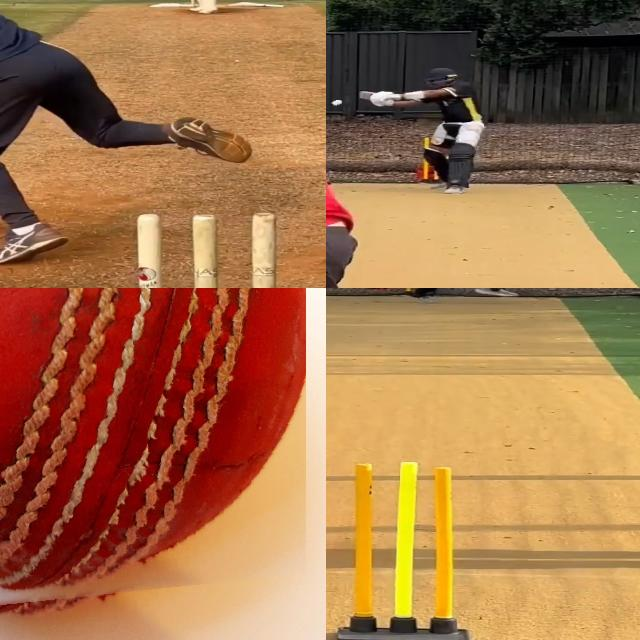Cricket ball: (0, 288, 306, 627), (331, 100, 345, 108)
Stumps: (339, 461, 474, 640)
